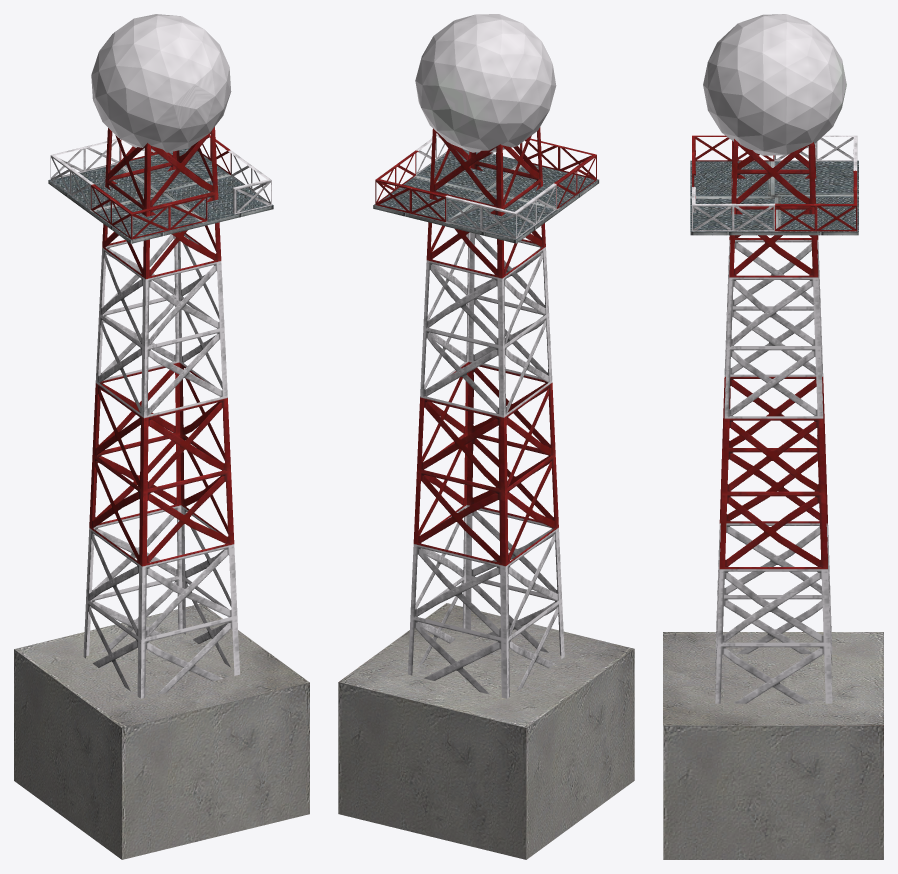
File: comtowr3.glb
3 renders of one model, left to right at view 1: azimuth 30°, elevation 25°; view 2: azimuth 150°, elevation 25°; view 3: azimuth 270°, elevation 25°, orthographic. The views are drawn at different scales.
Visible parts, largest first — view 1: _comtowr3; view 2: _comtowr3; view 3: _comtowr3.
Part boxes in pixels (x1=…): _comtowr3: x1=14, y1=14, x2=309, y2=859; _comtowr3: x1=338, y1=14, x2=634, y2=859; _comtowr3: x1=663, y1=14, x2=883, y2=859.
Size of the model in its own units: 8.44 by 33.36 by 8.42.
1 material, 1 textured.
